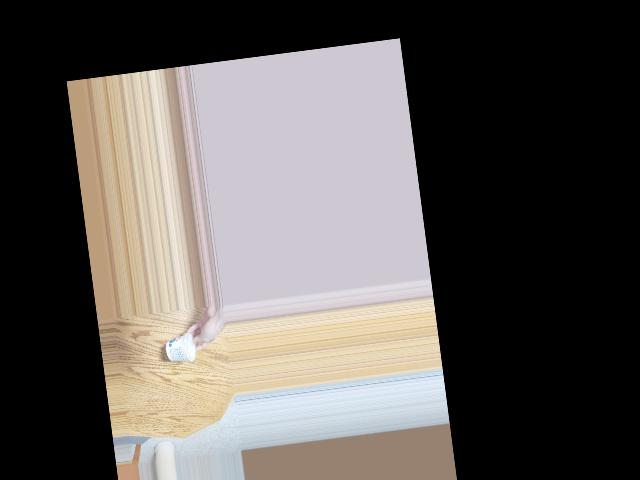cotage: (165, 329, 198, 363)
